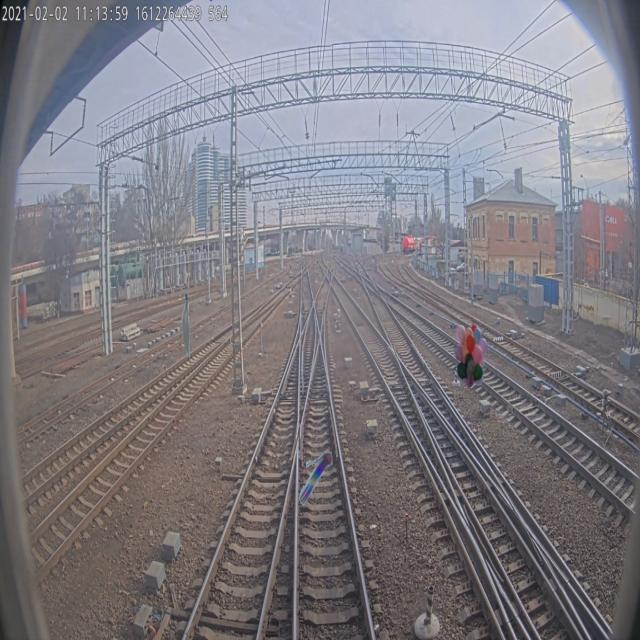balloon: (454, 324, 488, 388)
floating object: (298, 448, 333, 512), (182, 293, 196, 357)
